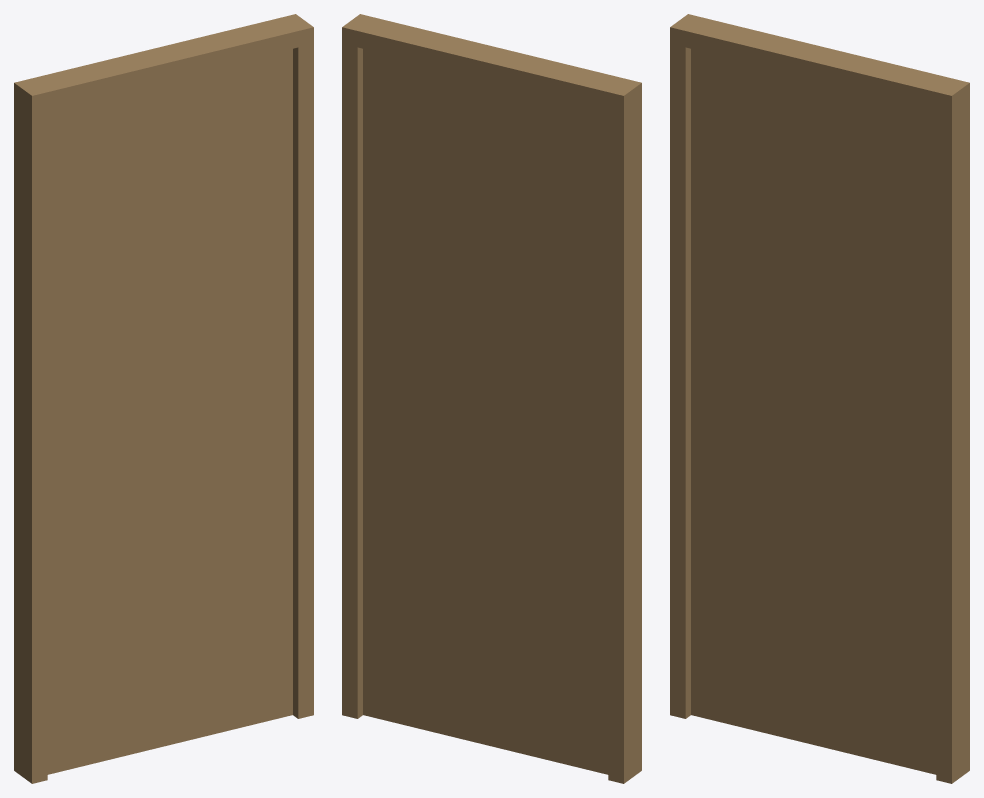
Rendered from door_frame_v1.glb.
3 renders of one model, left to right at view 1: azimuth 30°, elevation 25°; view 2: azimuth 150°, elevation 25°; view 3: azimuth 330°, elevation 25°, orthographic.
Parts seen in each view (by area): view 1: world; view 2: world; view 3: world.
Boxes of the visible parts, left/top/right/bottom form: world: left=14, top=14, right=313, bottom=783; world: left=342, top=14, right=641, bottom=783; world: left=670, top=14, right=969, bottom=783.
Size of the model in its own units: 90 by 210 by 10.
